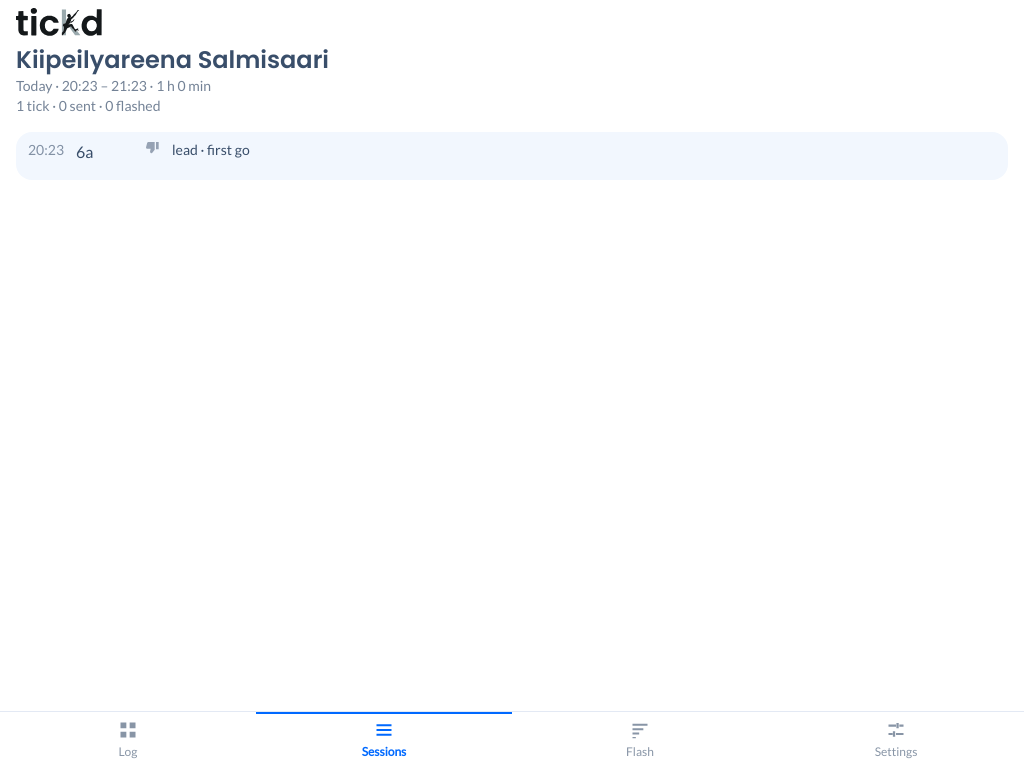
correcting a go from a closed session › corrects the outcome, and the row’s mark and wording follow it
Expected: the element that starts with "Kiipeilyareena Salmisaari" is shown, [16,43,1008,180]
Click the button with aria-label "Detail for 6a" at {"x": 46, "y": 150}, box [16,132,1008,180]
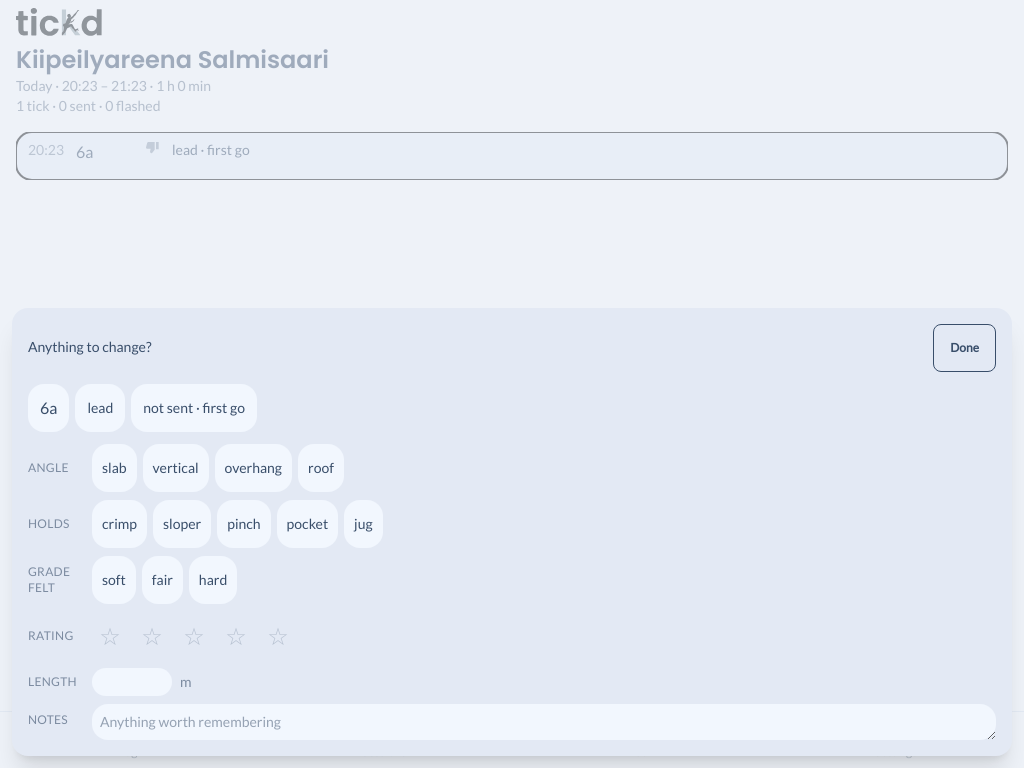
Click the button with aria-label "Outcome," at {"x": 194, "y": 408}, box [131,384,257,432]
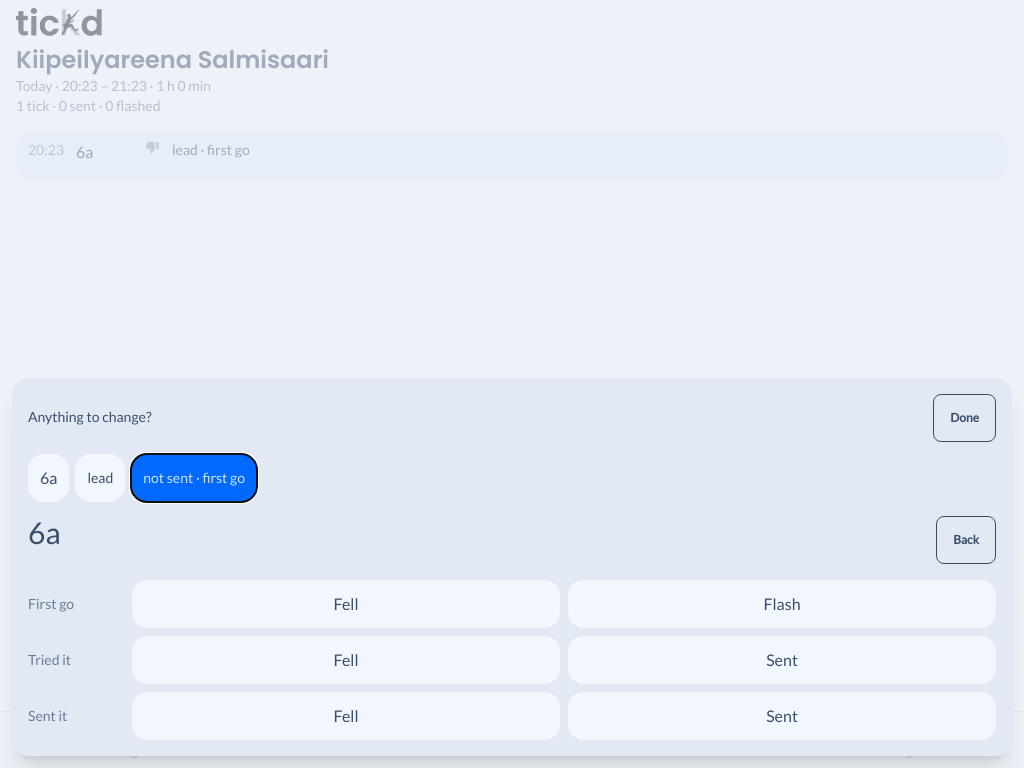
Click the button with aria-label "first go, flash" at {"x": 782, "y": 604}, box [568,580,996,628]
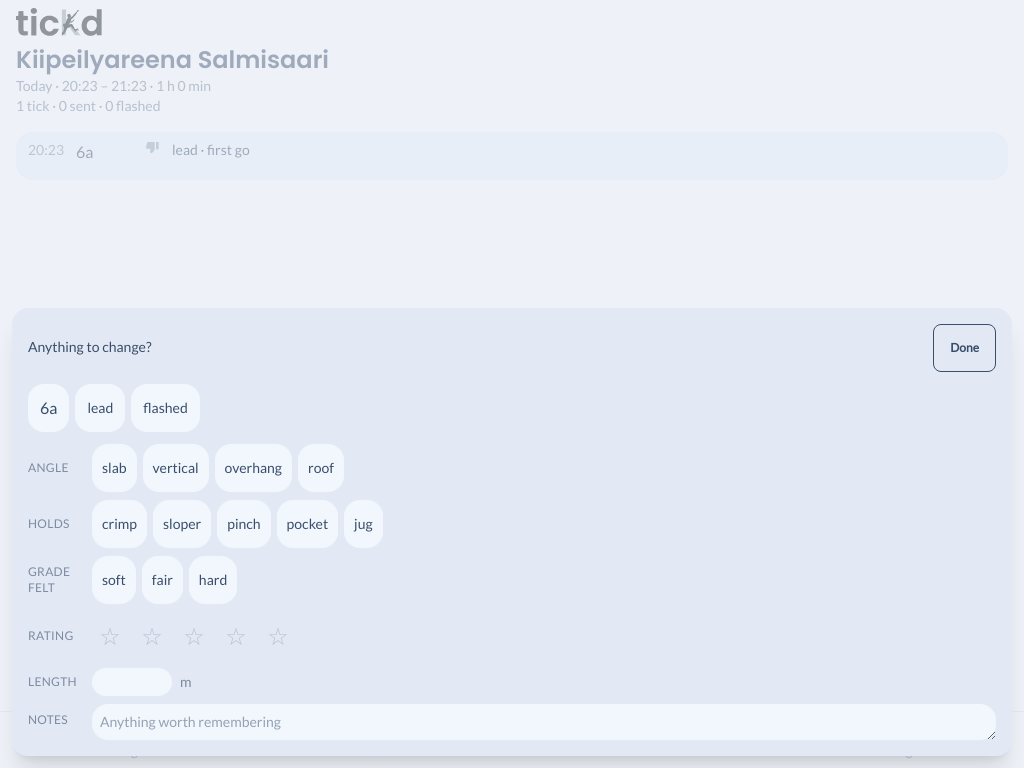
Click the button "Done" at {"x": 965, "y": 348}, box [933,324,996,372]
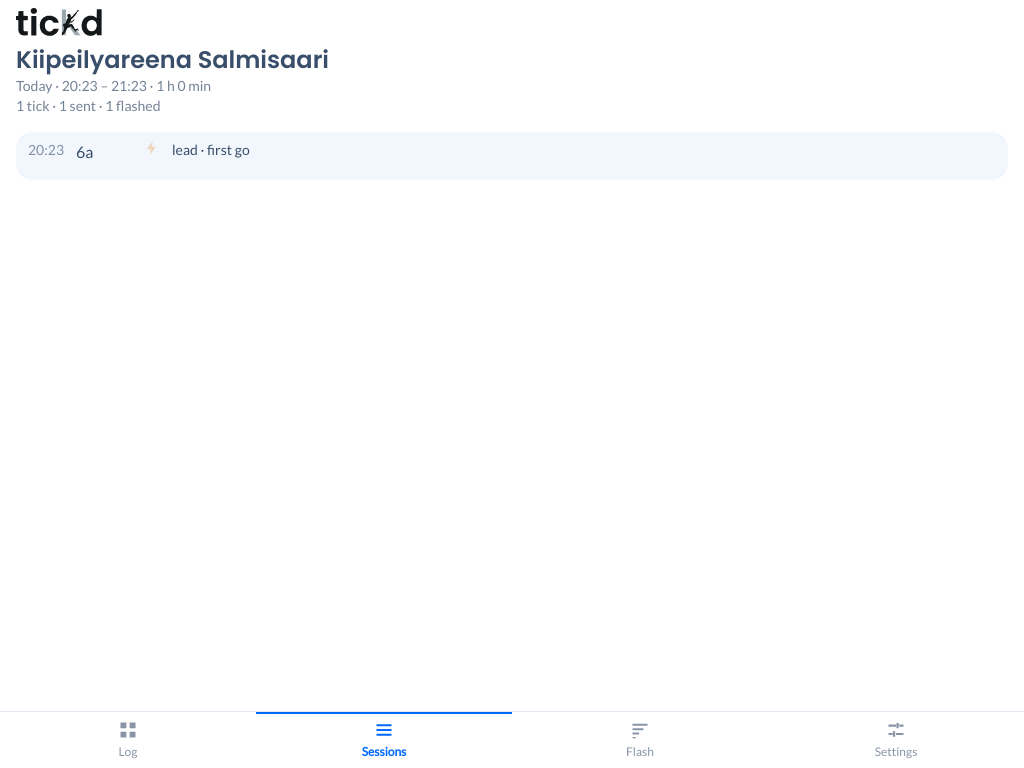
Expected: the text "1 tick · 1 sent · 1 flashed" is shown, [16,97,160,114]
